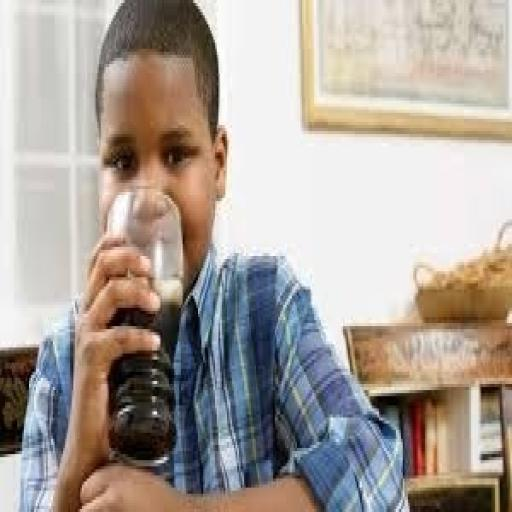drinking: (104, 25, 209, 469)
